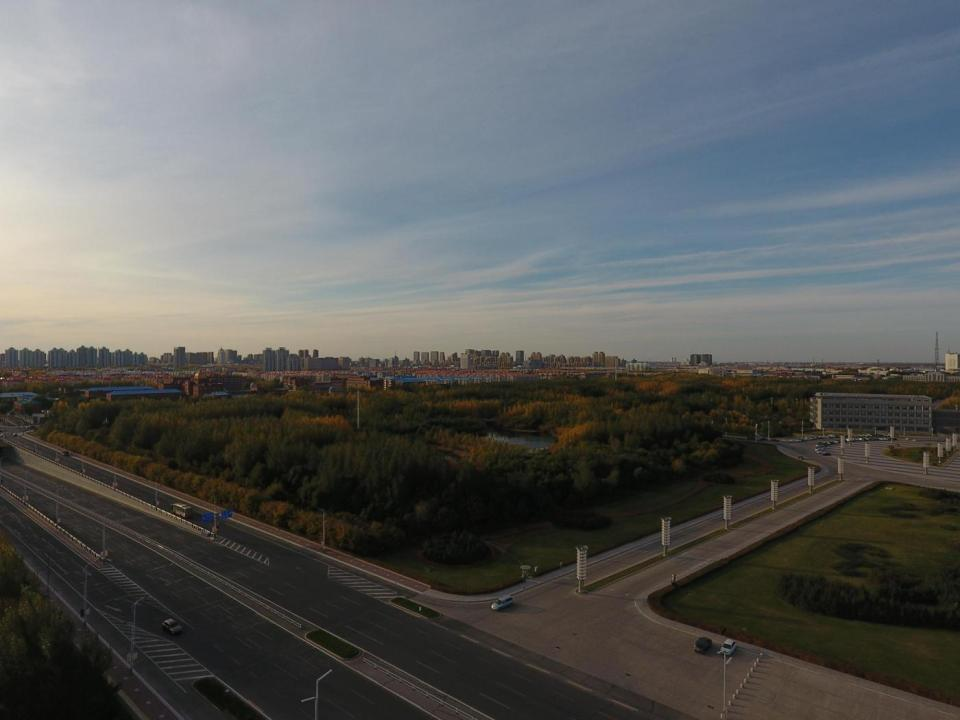bus: (171, 501, 194, 520)
car: (693, 636, 712, 655), (719, 638, 737, 657), (162, 618, 183, 634), (61, 449, 70, 456), (797, 455, 806, 461), (24, 424, 36, 428), (12, 432, 17, 437)
van: (490, 594, 516, 612)
